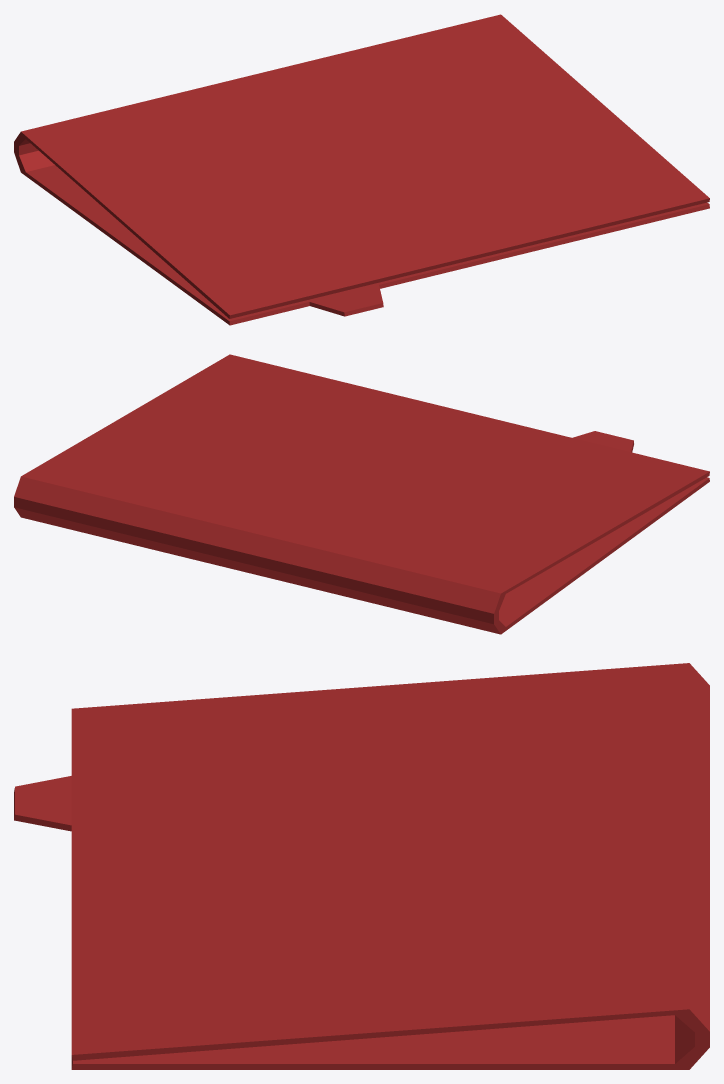
Rendered from folder4.fbx.
The picture shows the model from 3 angles, top to bottom: view 1: azimuth 30°, elevation 25°; view 2: azimuth 150°, elevation 25°; view 3: azimuth 270°, elevation 25°; orthographic projection. The views are drawn at different scales.
Visible parts, largest first — view 1: folder4; view 2: folder4; view 3: folder4.
Part boxes in pixels (x1,y1,x2,y2): folder4: (14,14,709,325); folder4: (14,354,709,634); folder4: (14,663,709,1069).
Size of the model in its own units: 0.3522 by 0.0288 by 0.2991.
